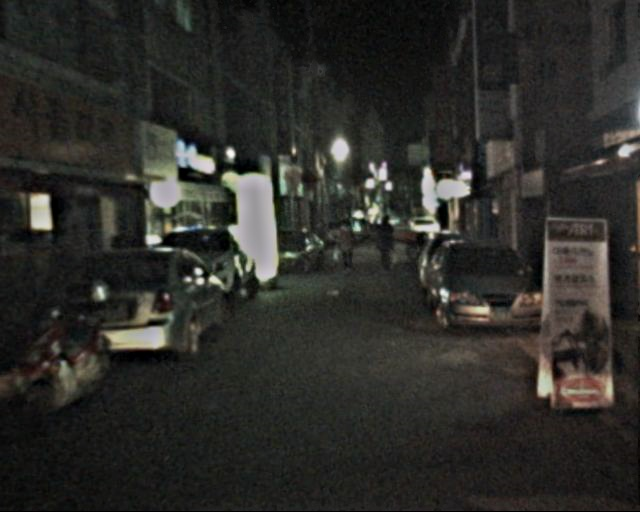person: (375, 215, 402, 281), (336, 220, 360, 278)
